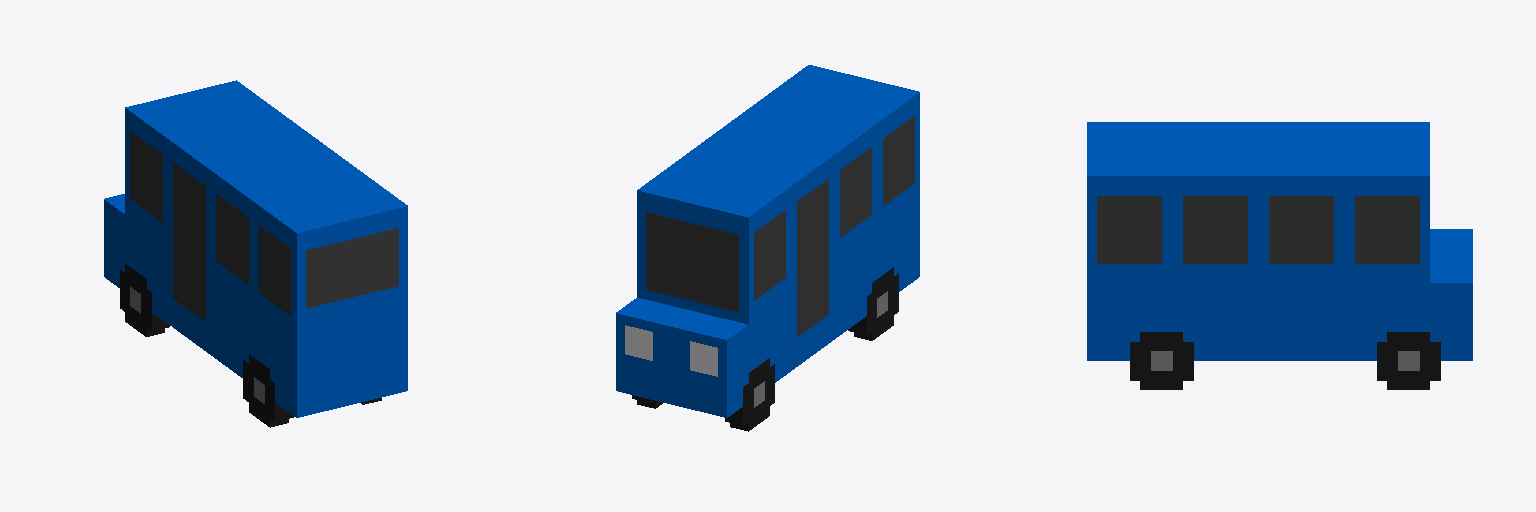
3 renders of one model, left to right at view 1: azimuth 30°, elevation 25°; view 2: azimuth 150°, elevation 25°; view 3: azimuth 270°, elevation 25°, orthographic.
Visible parts, largest first — view 1: bus_blue; view 2: bus_blue; view 3: bus_blue.
Boxes of the visible parts, x1,y1,x2,y2 form: bus_blue: [104, 80, 407, 427]; bus_blue: [616, 65, 919, 431]; bus_blue: [1087, 122, 1472, 389].
Bounding box in the file's own units: 12 × 22 × 36.
Materials: 1 (1 with a texture image).